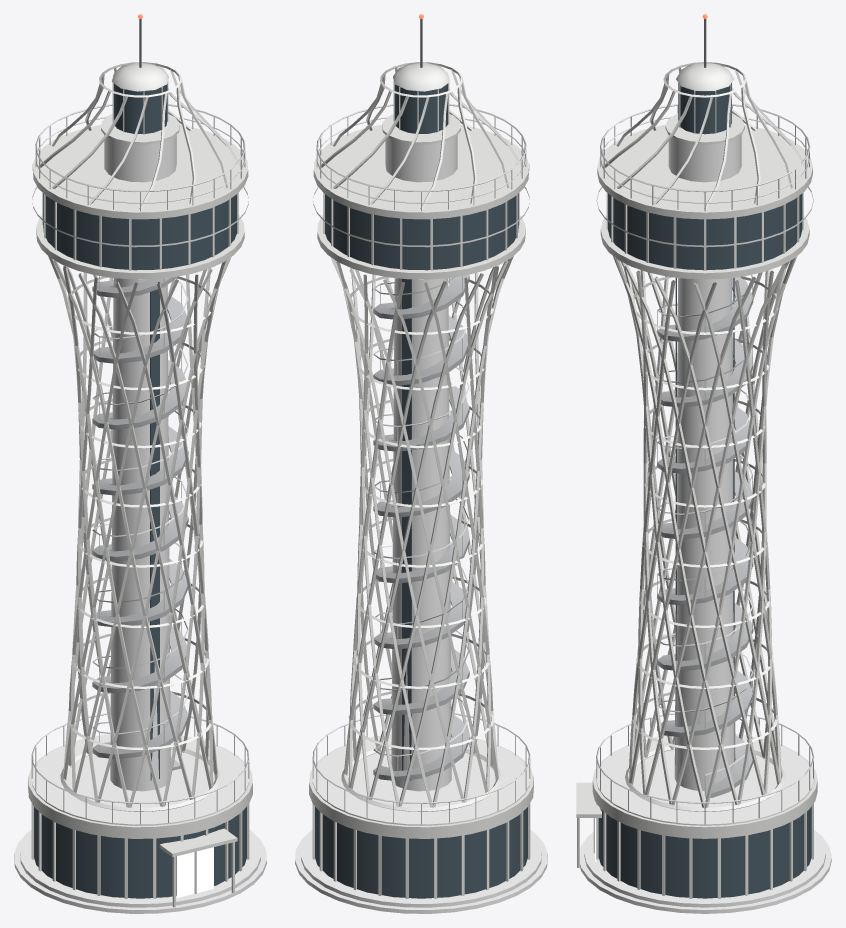
File: sea_candle.glb
The picture shows the model from 3 angles, left to right: view 1: azimuth 30°, elevation 25°; view 2: azimuth 150°, elevation 25°; view 3: azimuth 270°, elevation 25°; orthographic projection.
Parts seen in each view (by area): view 1: sea_candle_body, sea_candle_lamp; view 2: sea_candle_body, sea_candle_lamp; view 3: sea_candle_body, sea_candle_lamp.
Boxes of the visible parts, x1,y1,x2,y2 form: sea_candle_body: [14, 14, 266, 913]; sea_candle_lamp: [114, 83, 167, 133]; sea_candle_body: [295, 14, 547, 913]; sea_candle_lamp: [394, 83, 447, 133]; sea_candle_body: [576, 14, 831, 913]; sea_candle_lamp: [678, 83, 731, 134].
Bounding box in the file's own units: 10.8 × 39.82 × 10.9.
